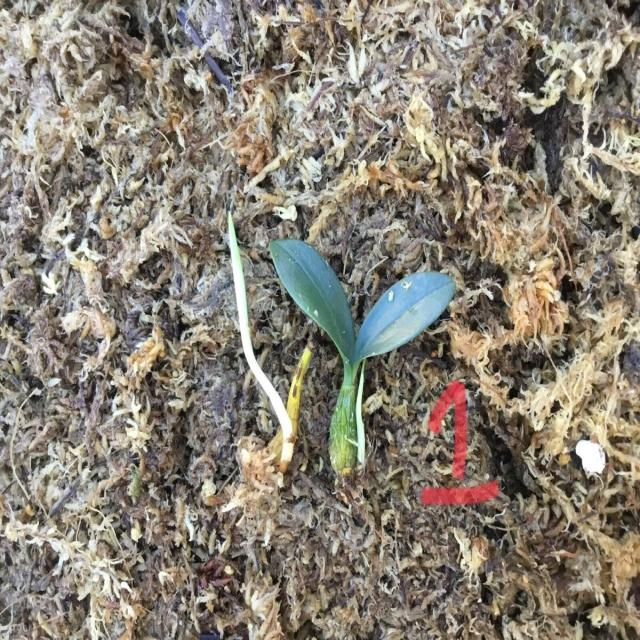leaf: (271, 239, 356, 365), (355, 272, 455, 360)
plant: (252, 211, 469, 492)
stem: (329, 360, 364, 475)
